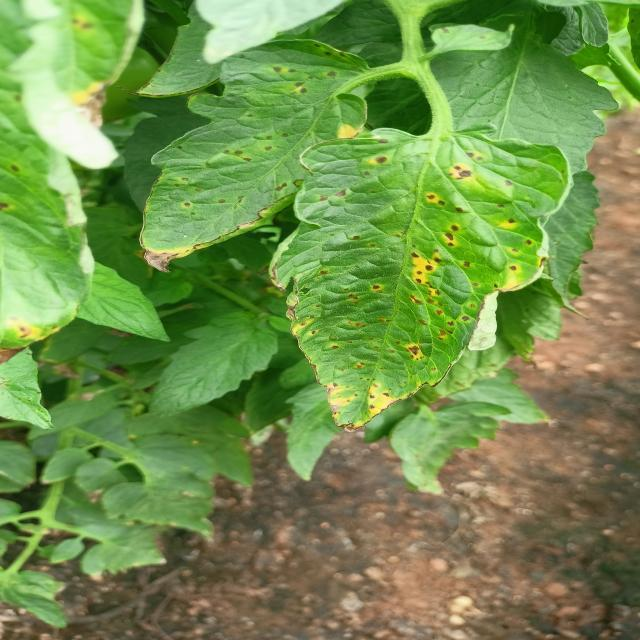Tomato mosaic virus leaf: (261, 127, 580, 437), (133, 38, 380, 275)
